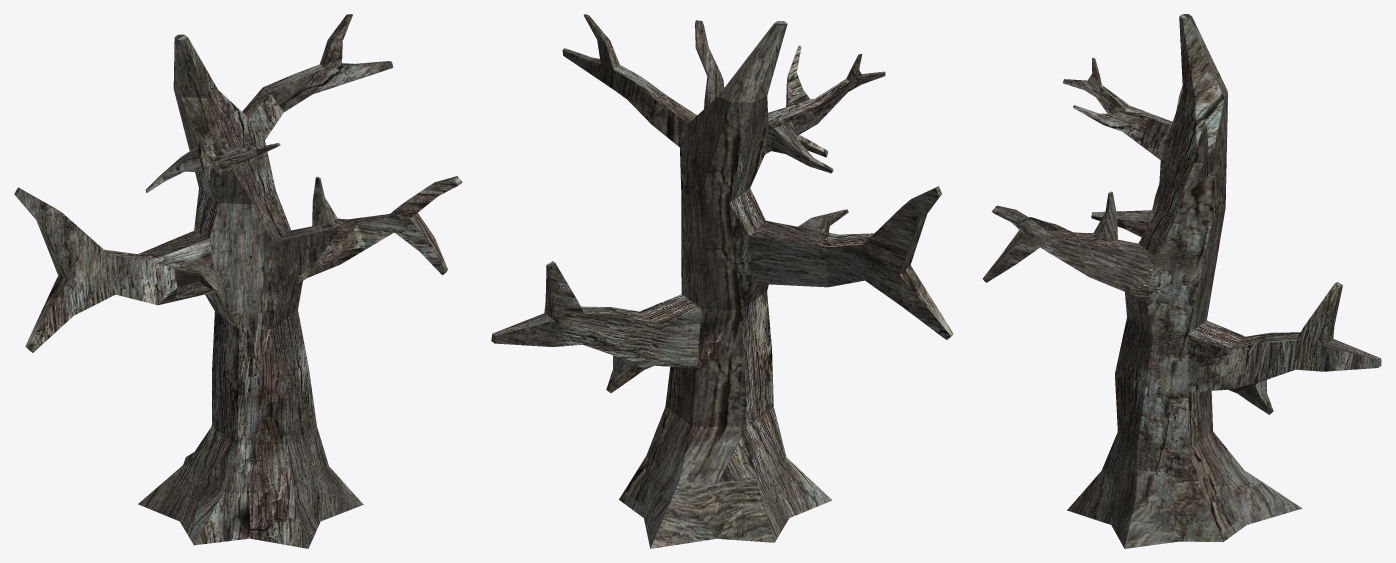
File: Arbre_mort.fbx
The picture shows the model from 3 angles, left to right: view 1: azimuth 30°, elevation 25°; view 2: azimuth 150°, elevation 25°; view 3: azimuth 270°, elevation 25°; orthographic projection. The views are drawn at different scales.
Parts seen in each view (by area): view 1: Cylinder; view 2: Cylinder; view 3: Cylinder.
Part boxes in pixels (x1,y1,x2,y2): Cylinder: (14,14,462,548); Cylinder: (491,14,953,548); Cylinder: (982,14,1381,548).
Bounding box in the file's own units: 3.92 × 4.87 × 3.8.
1 material, 1 textured.
